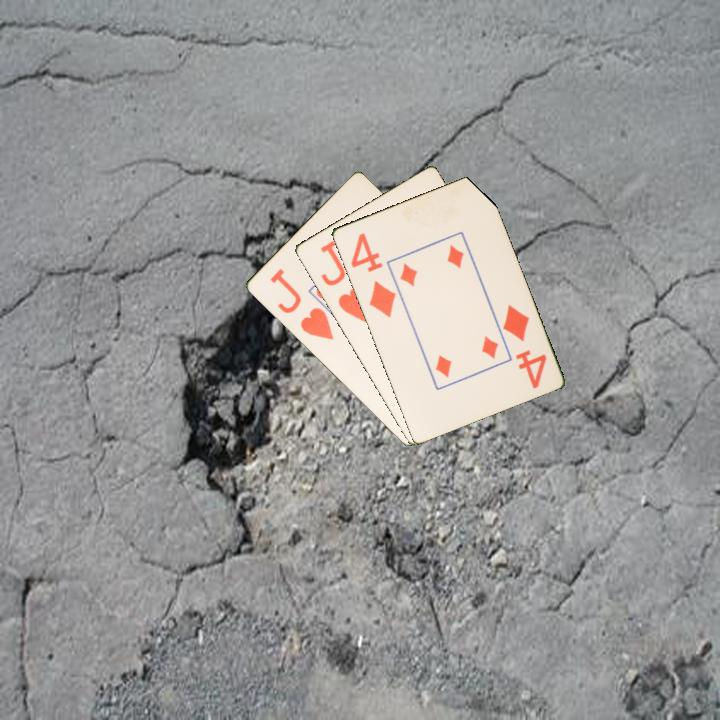4d: (347, 229, 399, 321), (499, 301, 549, 392)
Jh: (266, 265, 336, 343), (316, 237, 370, 326)
